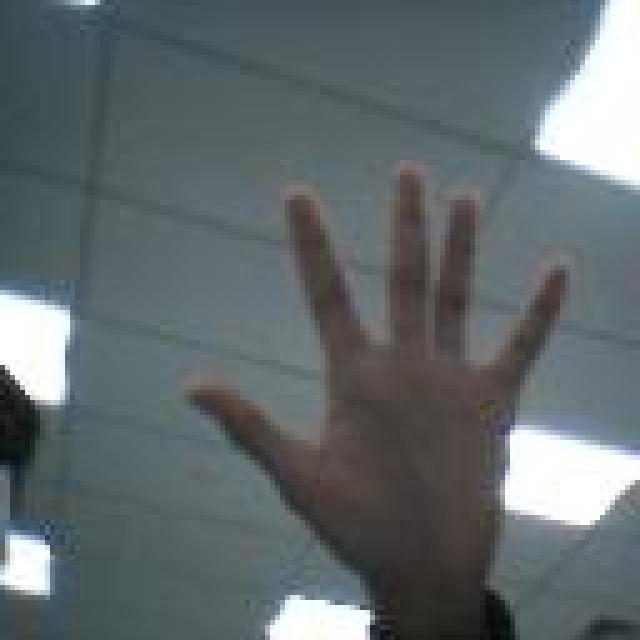no-gloves: (180, 160, 570, 595)
